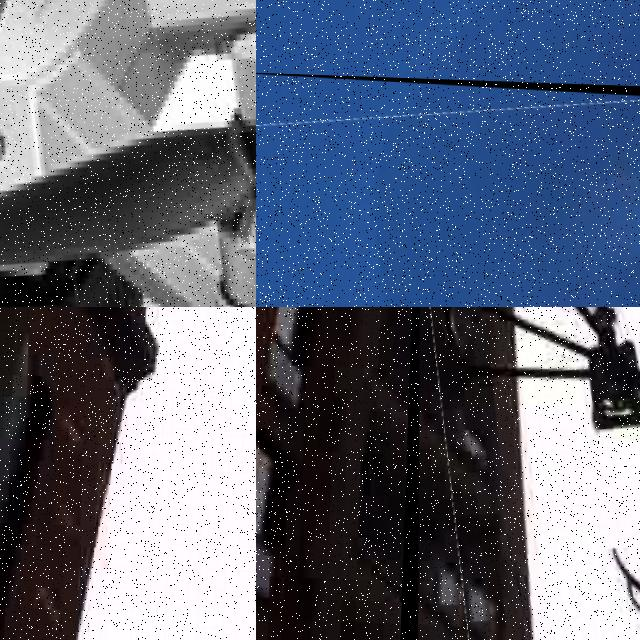drone: (256, 71, 640, 307), (400, 307, 640, 640), (0, 0, 256, 307)
